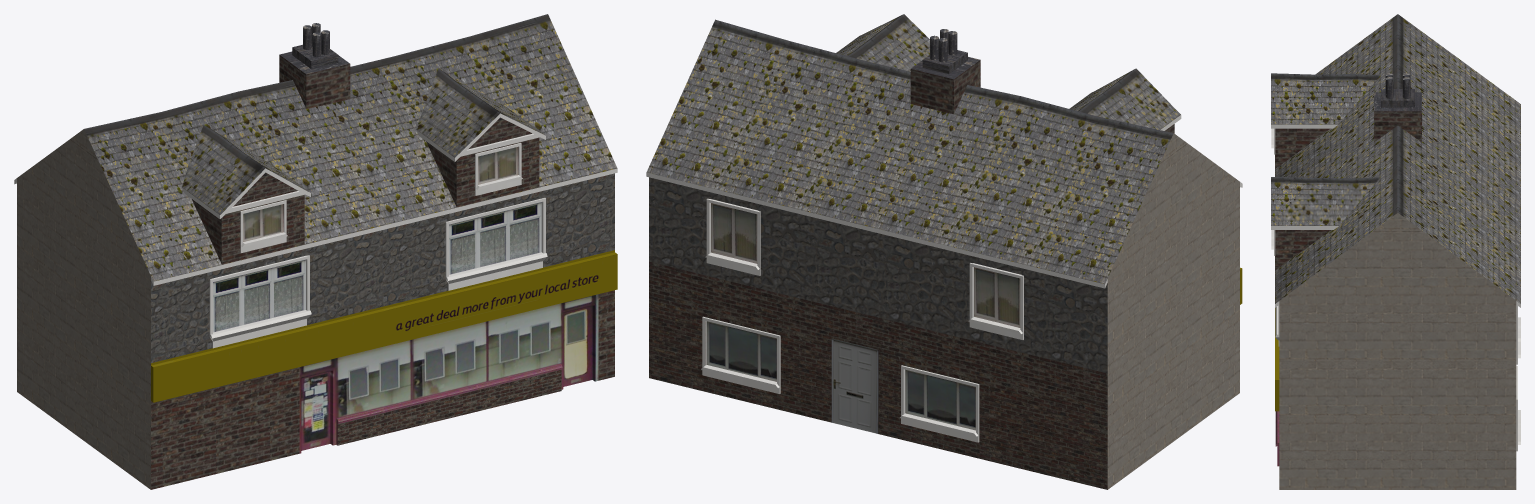
The model's file is ukcommercialfood15.FBX.
3 views of the same model, side by side, from view 1: azimuth 30°, elevation 25°; view 2: azimuth 150°, elevation 25°; view 3: azimuth 270°, elevation 25° (orthographic). The views are drawn at different scales.
Visible parts, largest first — view 1: Box002; view 2: Box002; view 3: Box002.
Part boxes in pixels (x1,y1,x2,y2): Box002: [14, 14, 617, 489]; Box002: [646, 14, 1242, 489]; Box002: [1271, 14, 1520, 489].
Bounding box in the file's own units: 1600 × 1168 × 844.
